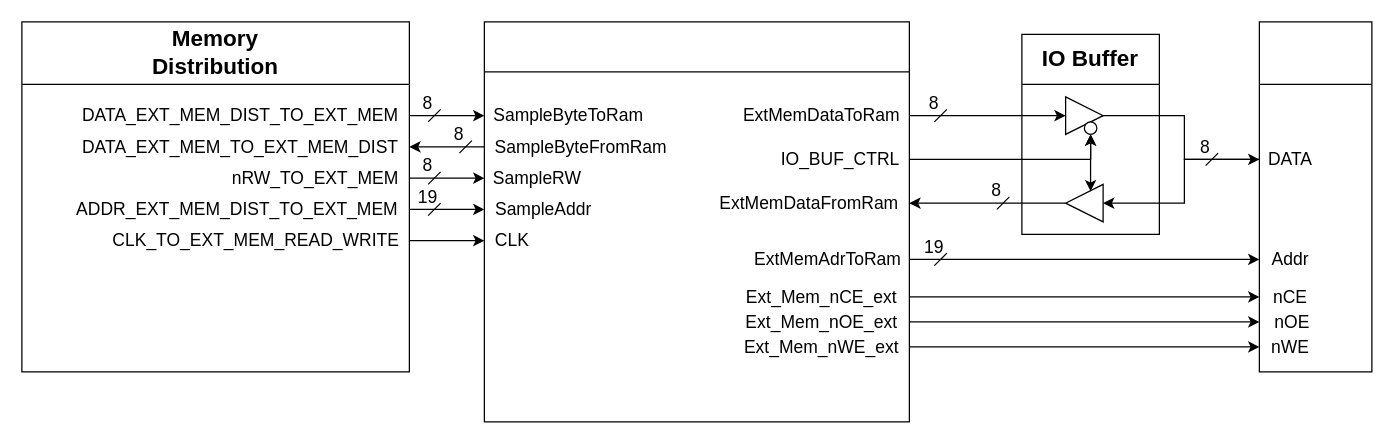
Image size: 1394x444. Some labels were removed from this diagram. The box of each missing label's shape, as (x1, y1, x2, y2) in pixels:
External Memory: (1258, 21, 1372, 372)
External Memory Read/Write: (483, 21, 909, 422)
